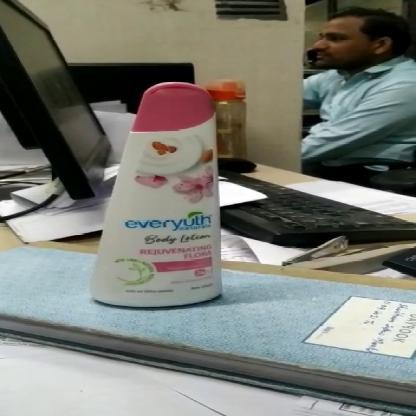Everyuth Naturals Body Lotion Rejuvenating Flora 200ml: (86, 80, 220, 310)
